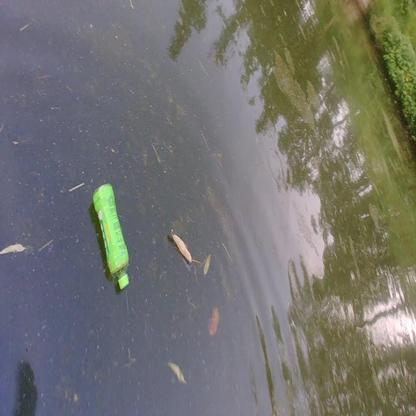plastic bottle: (91, 183, 129, 288)
